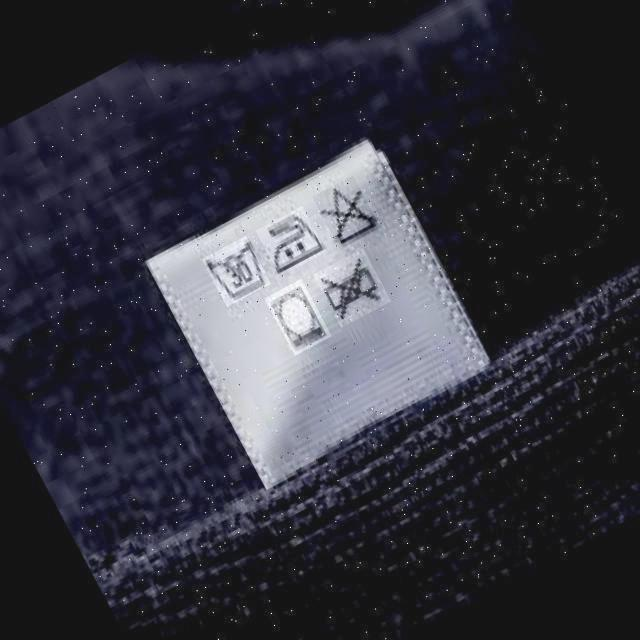30C: (211, 235, 263, 300)
DN_bleach: (323, 185, 379, 246)
DN_wring: (322, 257, 384, 318)
iron_medium: (267, 212, 321, 272)
tumble_dry_normal: (271, 286, 324, 348)
